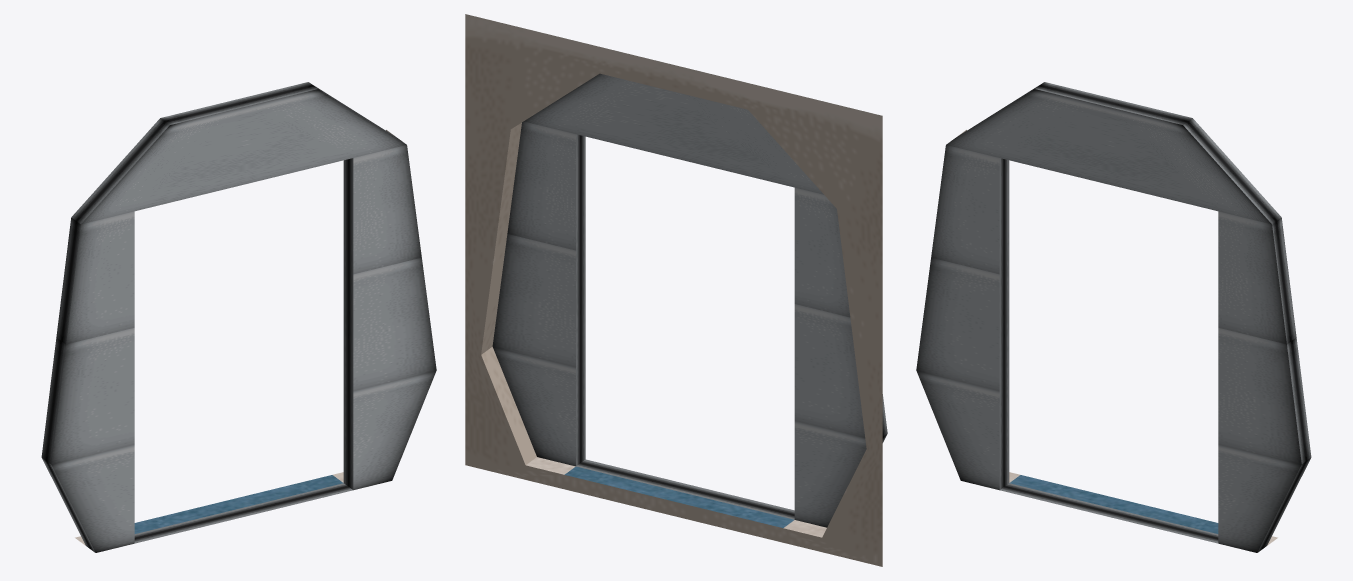
Rendered from galaxyCorridorEndDoor.glb.
The picture shows the model from 3 angles, left to right: view 1: azimuth 30°, elevation 25°; view 2: azimuth 150°, elevation 25°; view 3: azimuth 330°, elevation 25°; orthographic projection.
Parts seen in each view (by area): view 1: EndWithDoor; view 2: EndWithDoor; view 3: EndWithDoor.
Part boxes in pixels (box(x1,y1,x2,y2)): EndWithDoor: box(41, 82, 436, 552); EndWithDoor: box(465, 14, 887, 566); EndWithDoor: box(916, 82, 1311, 552).
Bounding box in the file's own units: 3 × 3.1 × 0.2627.
1 material, 1 textured.
